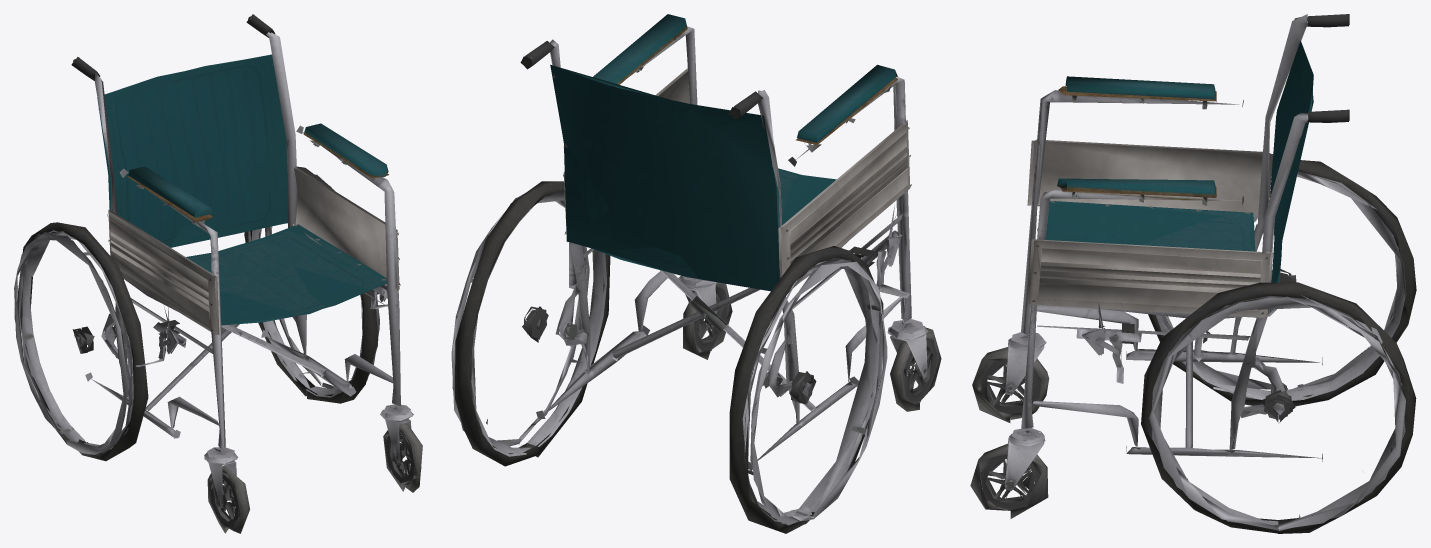
The model's file is wheelchair_01.fbx.
The picture shows the model from 3 angles, left to right: view 1: azimuth 30°, elevation 25°; view 2: azimuth 150°, elevation 25°; view 3: azimuth 270°, elevation 25°; orthographic projection. The views are drawn at different scales.
Visible parts, largest first — view 1: wheelchair_01; view 2: wheelchair_01; view 3: wheelchair_01.
Part boxes in pixels (x1=…): wheelchair_01: x1=14, y1=14, x2=422, y2=533; wheelchair_01: x1=451, y1=14, x2=941, y2=533; wheelchair_01: x1=970, y1=14, x2=1416, y2=533.
Size of the model in its own units: 82.39 by 111 by 109.
1 material, 1 textured.
